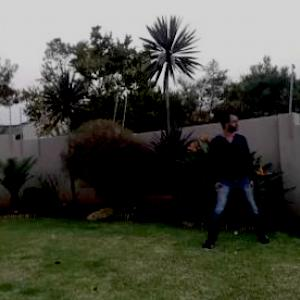follow: (210, 98, 254, 253)
